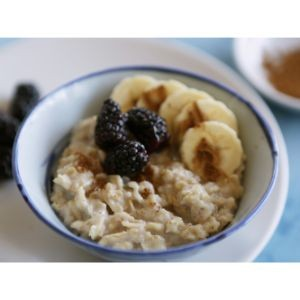oat_brain food: (85, 186, 207, 241)
